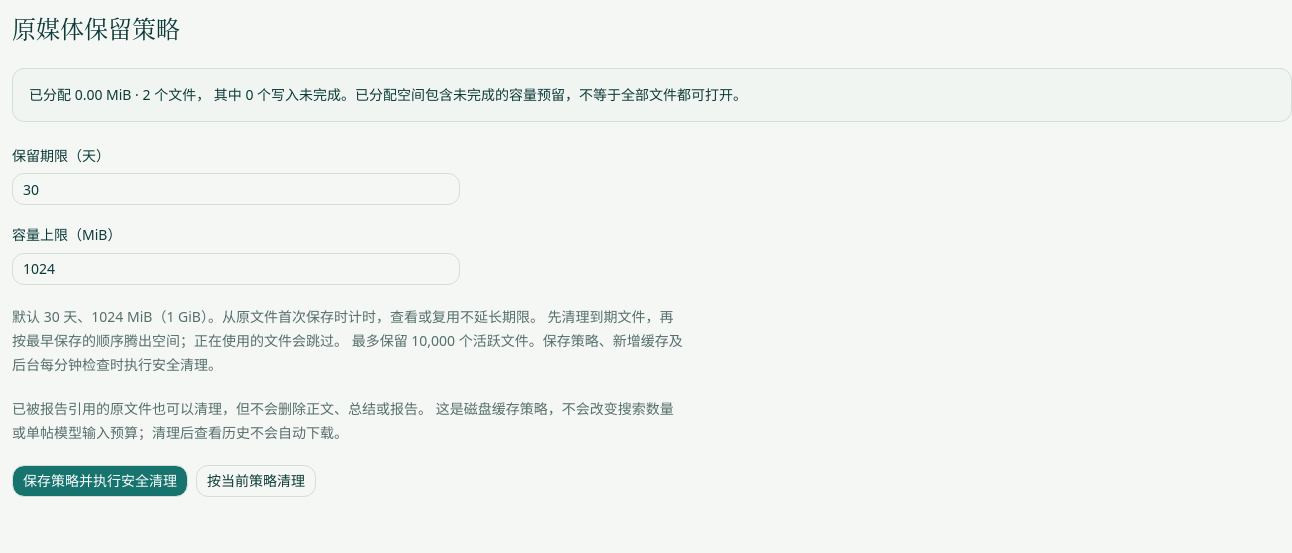
reads without cleanup, saves explicit units and explains deferred deletion
This screenshot has width=1292, height=553.
Replace the text in the number field labelled "保留期限（天）" with "7" at (236, 189), box [12,173,460,205]
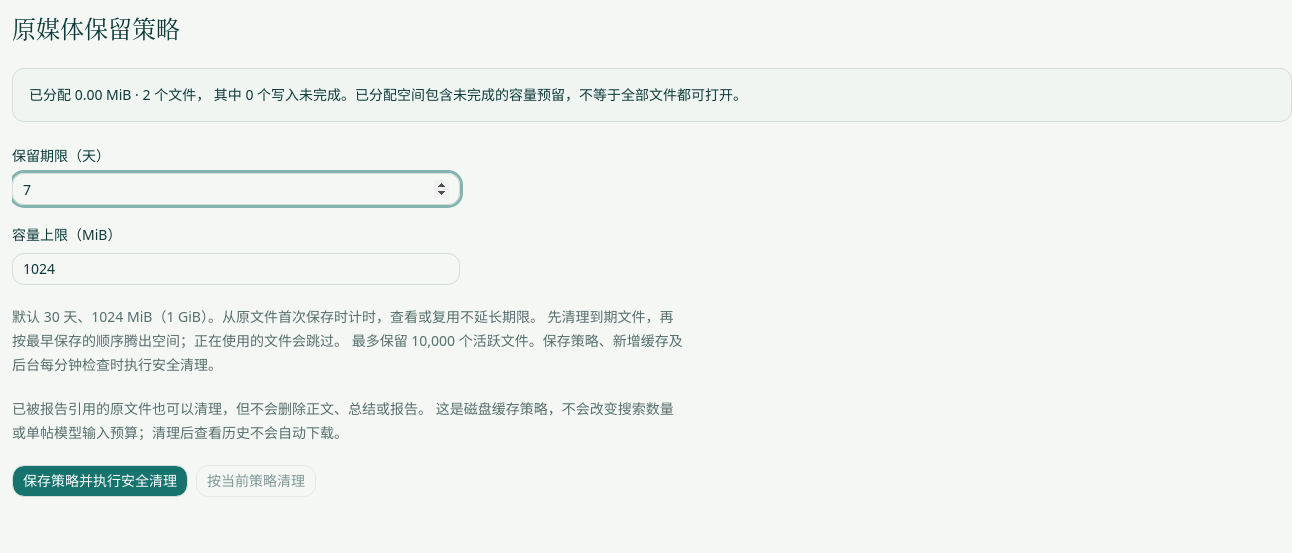
Replace the text in the number field labelled "容量上限（MiB）" with "512" at (236, 268), box [12,252,460,284]
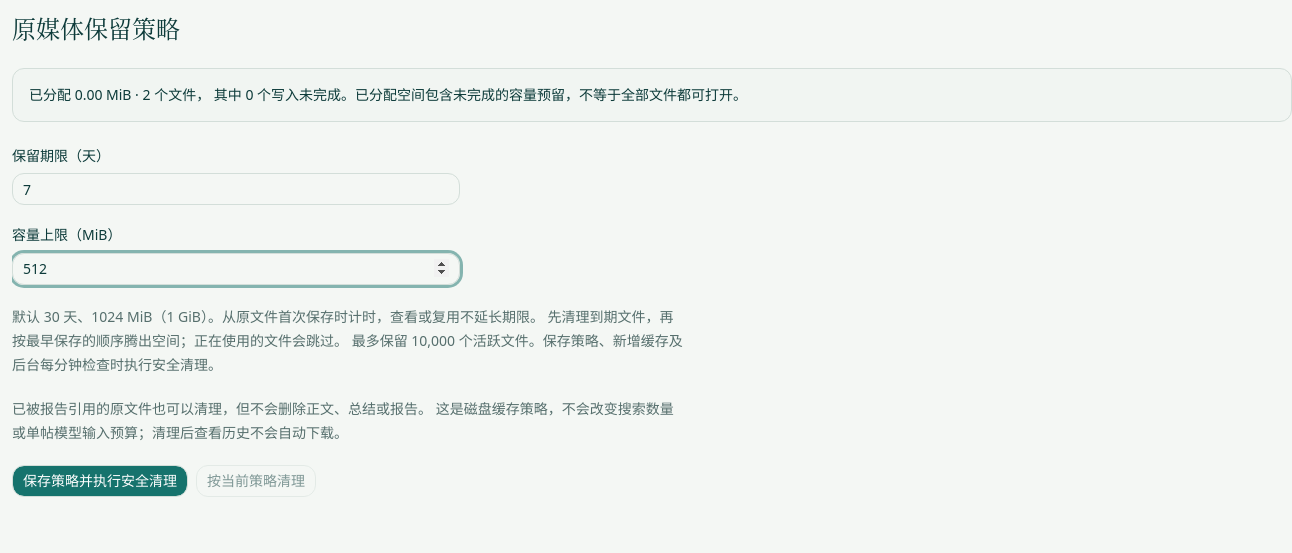
Click the button "保存策略并执行安全清理" at (100, 480), box [12,464,188,496]
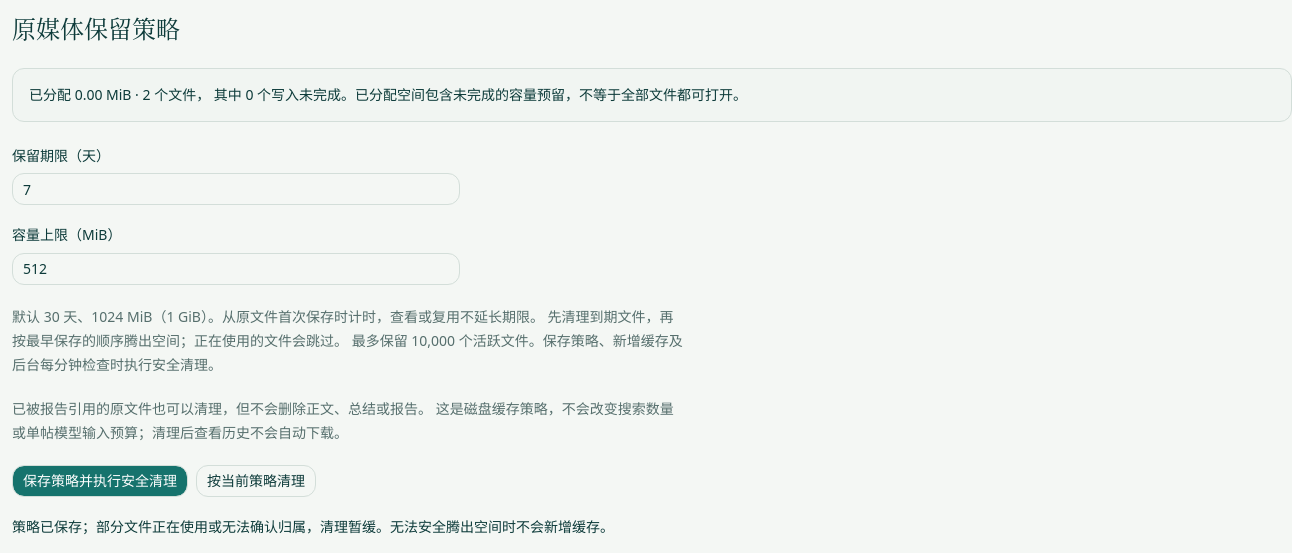
Expected: the text "不会删除正文、总结或报告" is shown, [12,398,674,442]
Expected: the text "策略已保存；部分文件正在使用或无法确认归属，清理暂缓。无法安全腾出空间时不会新增缓存。" is shown, [12,516,684,536]
